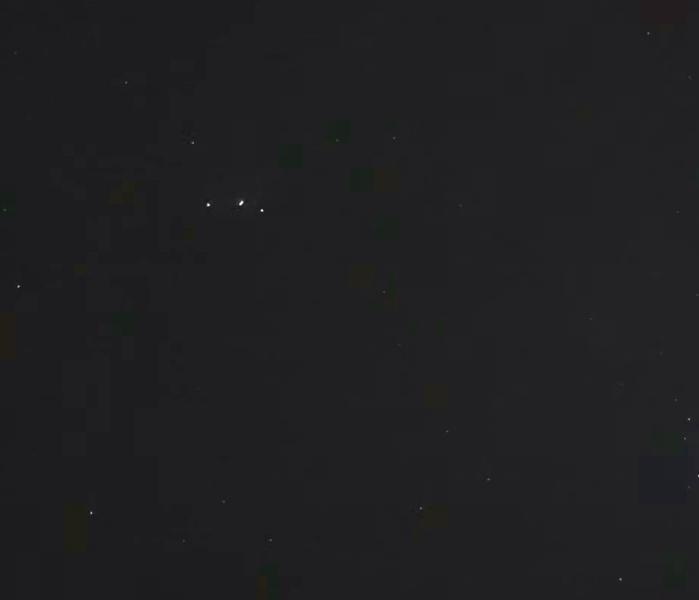Plane: (201, 195, 278, 218)
